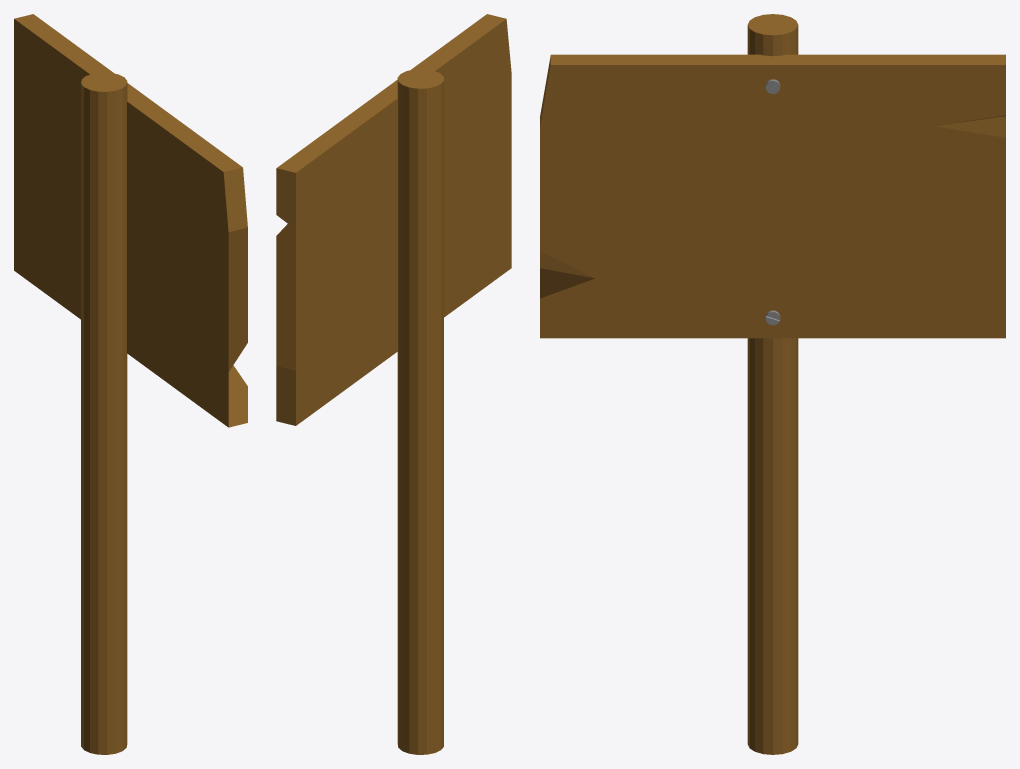
Rendered from sign - copy.fbx.
3 renders of one model, left to right at view 1: azimuth 30°, elevation 25°; view 2: azimuth 150°, elevation 25°; view 3: azimuth 270°, elevation 25°, orthographic. The views are drawn at different scales.
Visible parts, largest first — view 1: Sign; view 2: Sign; view 3: Sign.
Boxes of the visible parts, box(x1,y1,x2,y2) form: Sign: box(14, 14, 247, 754); Sign: box(276, 14, 511, 754); Sign: box(540, 14, 1005, 754).
Bounding box in the file's own units: 13.16 × 139 × 81.74.
